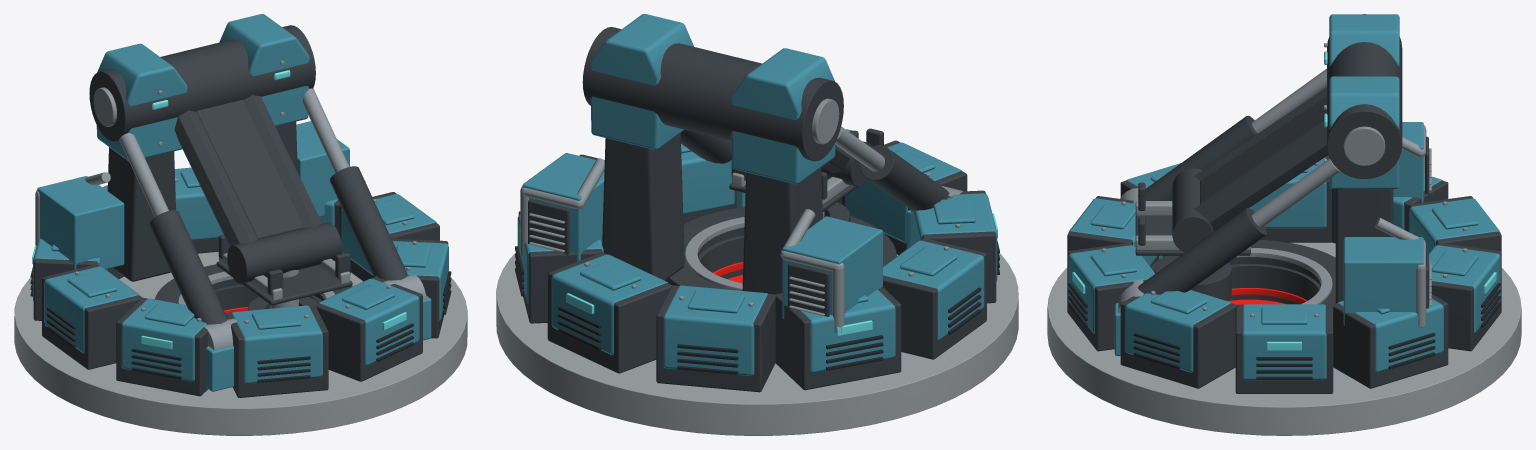
The model's file is mine-armored.glb.
3 renders of one model, left to right at view 1: azimuth 30°, elevation 25°; view 2: azimuth 150°, elevation 25°; view 3: azimuth 270°, elevation 25°, orthographic. The views are drawn at different scales.
Parts seen in each view (by area): view 1: modelRoot-foundation-concrete, modelRoot-team-primary, rockerPivot-structure, modelRoot-structure, perimeterModule7-team-primary, perimeterModule6-team-primary, perimeterModule8-team-primary, hydraulicBarrel1, hydraulicBarrel0, perimeterModule8-structure, perimeterModule5-team-primary, perimeterModule5-structure (+18 smaller); view 2: modelRoot-structure, modelRoot-foundation-concrete, modelRoot-team-primary, modelRoot-neutral-metal, perimeterModule3-team-primary, perimeterModule2-team-primary, perimeterModule2-structure, perimeterModule5-team-primary, perimeterModule4-structure, perimeterModule5-structure, perimeterModule4-team-primary, perimeterModule3-structure (+17 smaller); view 3: modelRoot-foundation-concrete, modelRoot-structure, modelRoot-team-primary, rockerPivot-structure, perimeterModule0-team-primary, modelRoot-neutral-metal, perimeterModule9-team-primary, perimeterModule9-structure, perimeterModule1-structure, hydraulicBarrel1, perimeterModule1-team-primary, perimeterModule8-team-primary (+23 smaller).
Boxes of the visible parts, box(x1,y1,x2,y2) form: modelRoot-foundation-concrete: box(14, 251, 467, 435); modelRoot-team-primary: box(37, 14, 431, 391); rockerPivot-structure: box(174, 95, 341, 283); modelRoot-structure: box(89, 25, 352, 310); perimeterModule7-team-primary: box(232, 305, 322, 383); perimeterModule6-team-primary: box(121, 298, 206, 381); perimeterModule8-team-primary: box(318, 278, 419, 365); hydraulicBarrel1: box(329, 166, 407, 280); hydraulicBarrel0: box(149, 210, 227, 324); perimeterModule8-structure: box(315, 277, 422, 381); perimeterModule5-team-primary: box(44, 266, 139, 353); perimeterModule5-structure: box(42, 264, 142, 369); modelRoot-structure: box(528, 27, 896, 316); modelRoot-foundation-concrete: box(496, 253, 1018, 435); modelRoot-team-primary: box(522, 14, 910, 318); modelRoot-neutral-metal: box(520, 98, 963, 332); perimeterModule3-team-primary: box(663, 285, 767, 375); perimeterModule2-team-primary: box(551, 254, 667, 355); perimeterModule2-structure: box(547, 252, 672, 373); perimeterModule5-team-primary: box(883, 240, 984, 340); perimeterModule4-structure: box(775, 287, 901, 390); perimeterModule5-structure: box(883, 238, 986, 359); perimeterModule4-team-primary: box(801, 289, 895, 373); perimeterModule3-structure: box(656, 285, 775, 392); modelRoot-foundation-concrete: box(1047, 242, 1521, 435); modelRoot-structure: box(1150, 14, 1428, 308); modelRoot-team-primary: box(1114, 14, 1423, 355); rockerPivot-structure: box(1172, 87, 1328, 252); perimeterModule0-team-primary: box(1242, 304, 1326, 380); modelRoot-neutral-metal: box(1118, 43, 1431, 327); perimeterModule9-team-primary: box(1125, 290, 1231, 372); perimeterModule9-structure: box(1120, 293, 1236, 388); perimeterModule1-structure: box(1332, 294, 1448, 388); hydraulicBarrel1: box(1138, 207, 1266, 294); perimeterModule1-team-primary: box(1337, 299, 1443, 372); perimeterModule8-team-primary: box(1068, 245, 1155, 333).
Size of the model in its own units: 2.96 by 1.94 by 2.96.
